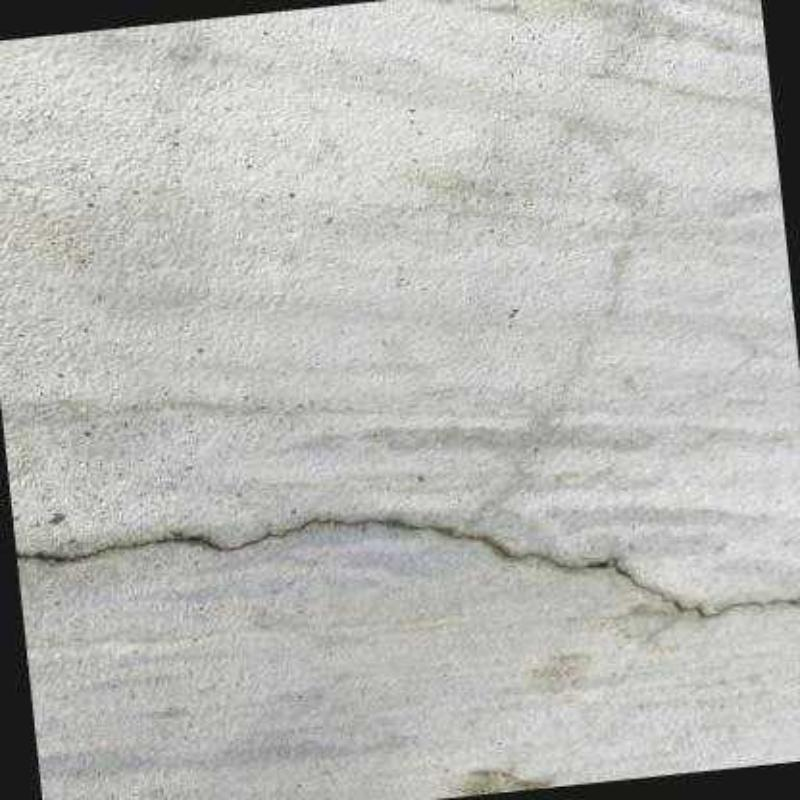pothole: (14, 519, 800, 616)
